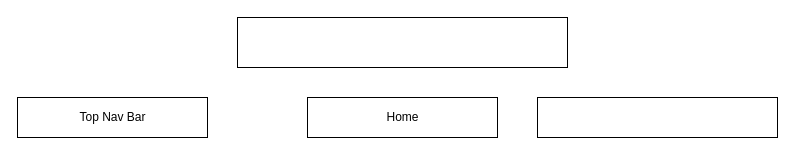
Some shapes in this 795 by 155 pixel diagram are drawn without their labels. The shapes that lost their labels are listed below. From the top down, each one's centre as x and y in pixels, then its label:
[402,42]: Schedule Builder
[657,117]: Schedule Page
